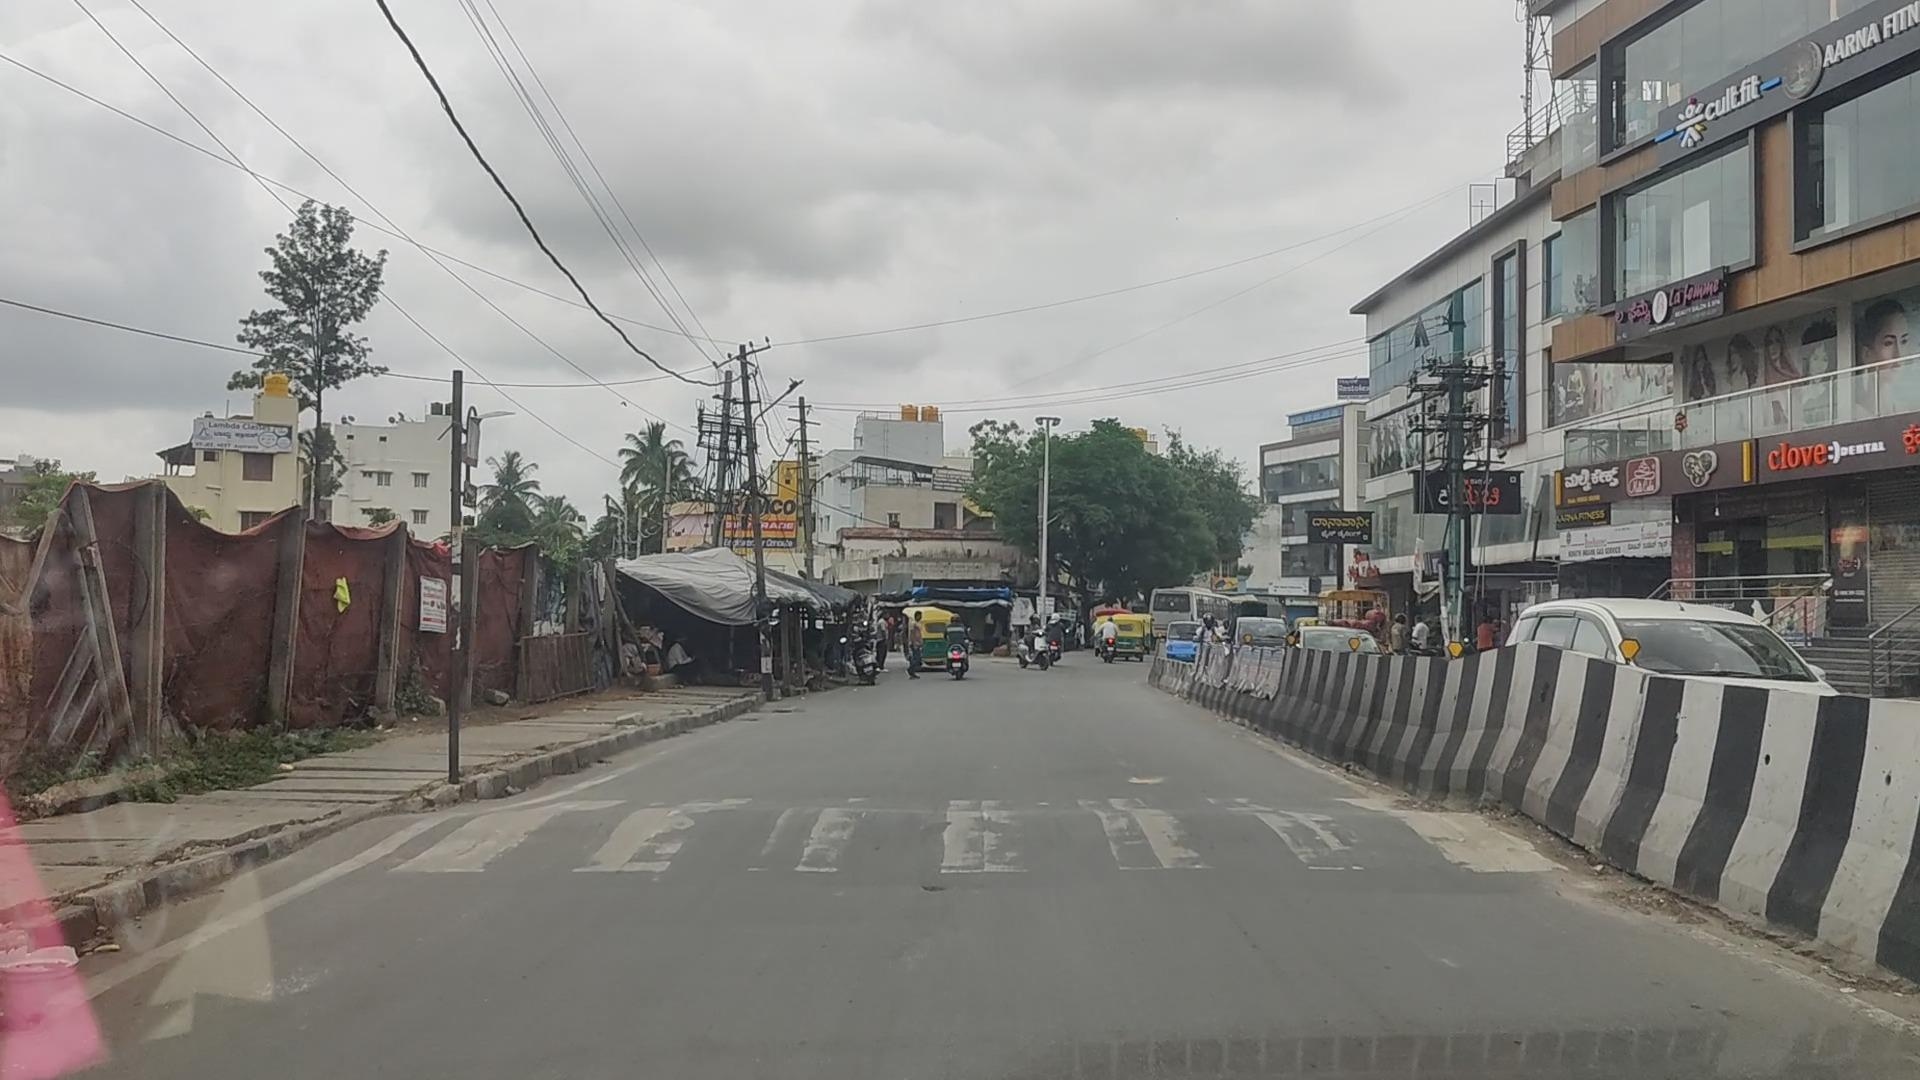SpeedBump: (352, 786, 1522, 888)
